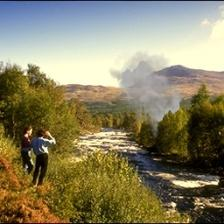fire: (108, 48, 184, 140)
